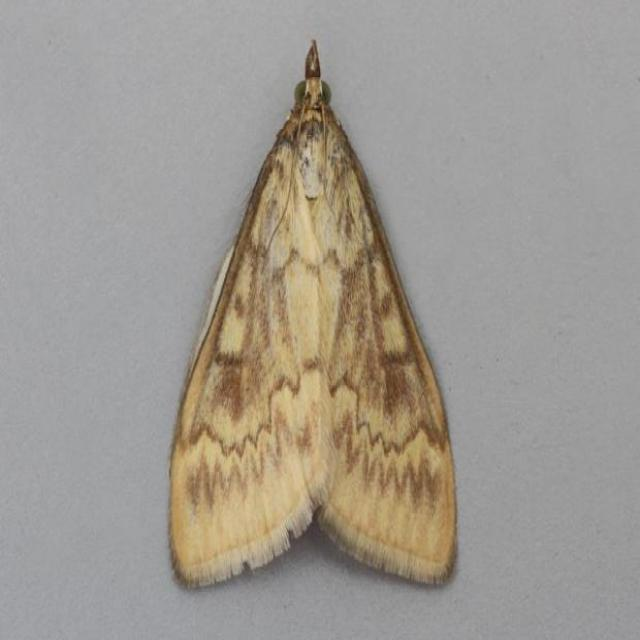cornborer-Adult-: (162, 19, 478, 596)
